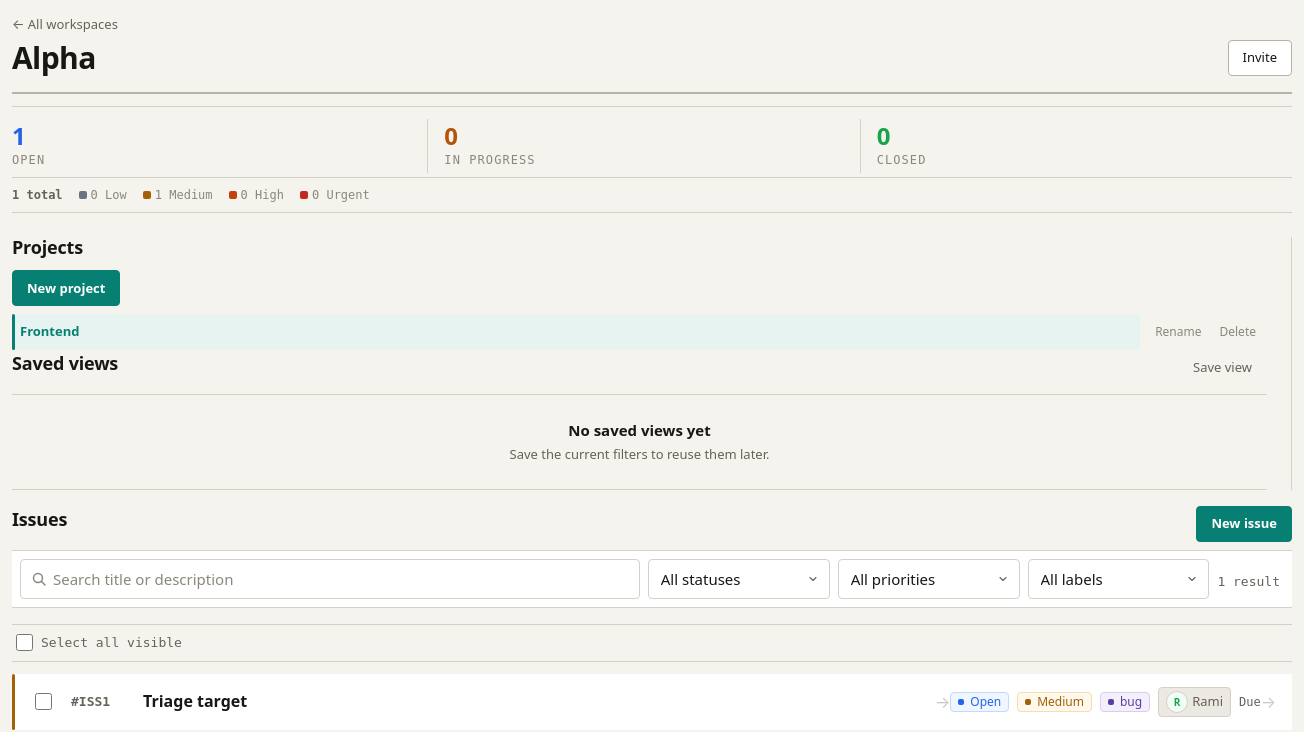
Test: WorkspacePage Quick Edit › commits a status change through PATCH and reopens with the new value
Check: the text "Triage target" is shown, box left=143, top=690, right=247, bottom=712
Click the button with aria-label "Change status, currently Open": (980, 702) left=950, top=692, right=1009, bottom=712
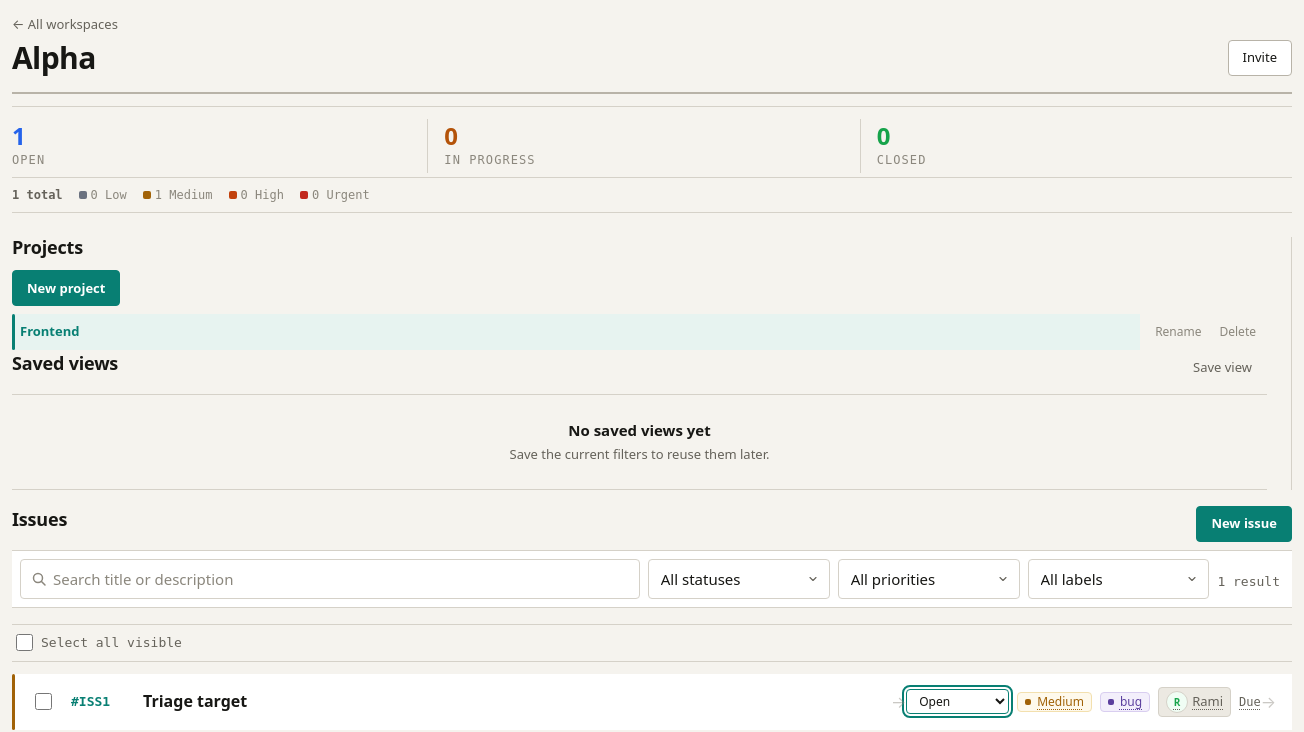
Select "In Progress" in the dropdown named "Change status, currently Open": (958, 702) left=906, top=689, right=1009, bottom=714
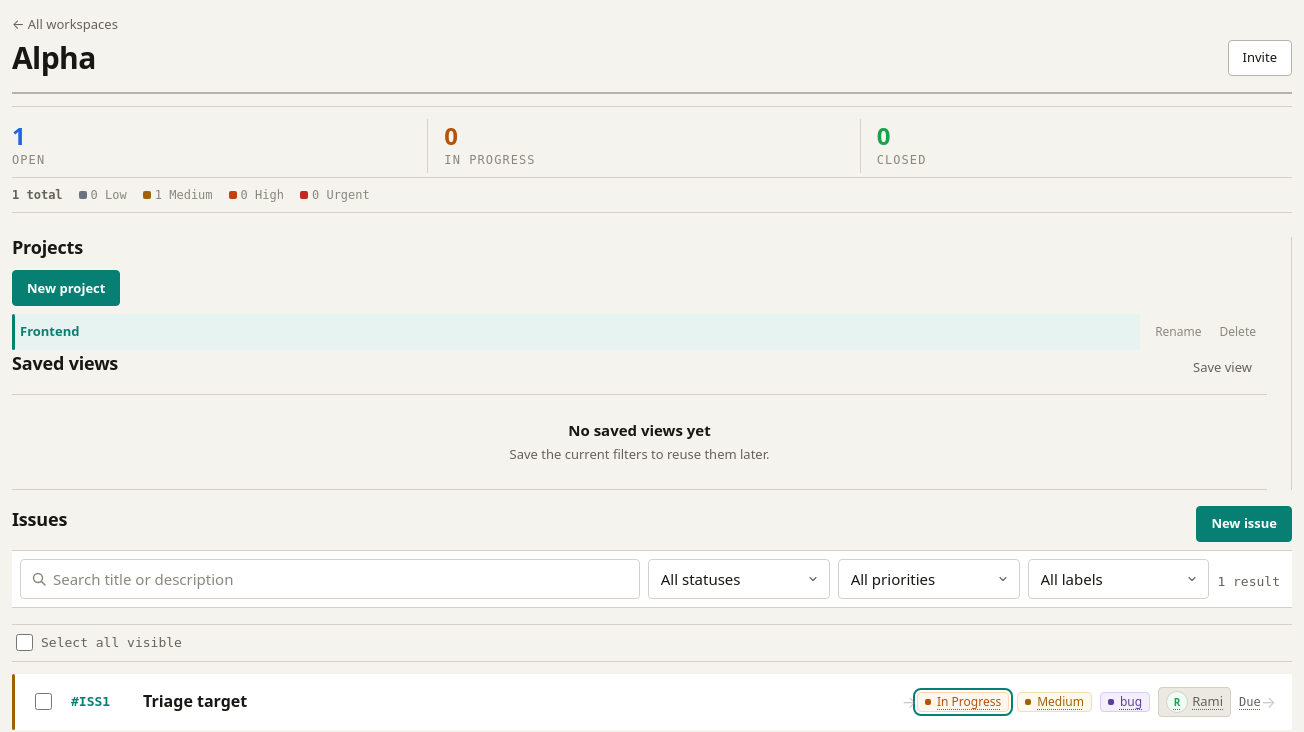
Check: the button with aria-label "Change status, currently In Progress" is shown, box left=917, top=692, right=1009, bottom=712
